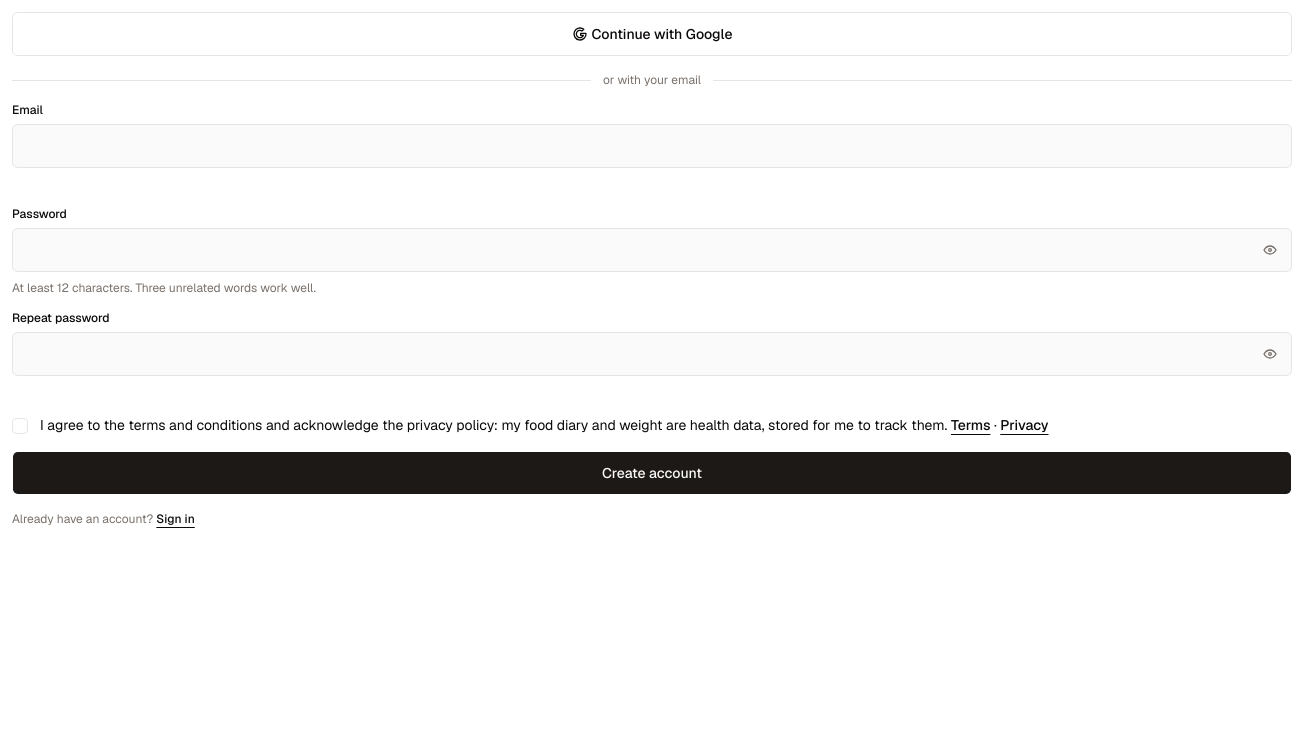
SignUpForm › asks for the agreement before it goes to Google
The width and height of the screenshot is (1304, 732).
Click the button "Continue with Google".
click(652, 34)  # box x1=12 y1=12 x2=1292 y2=56
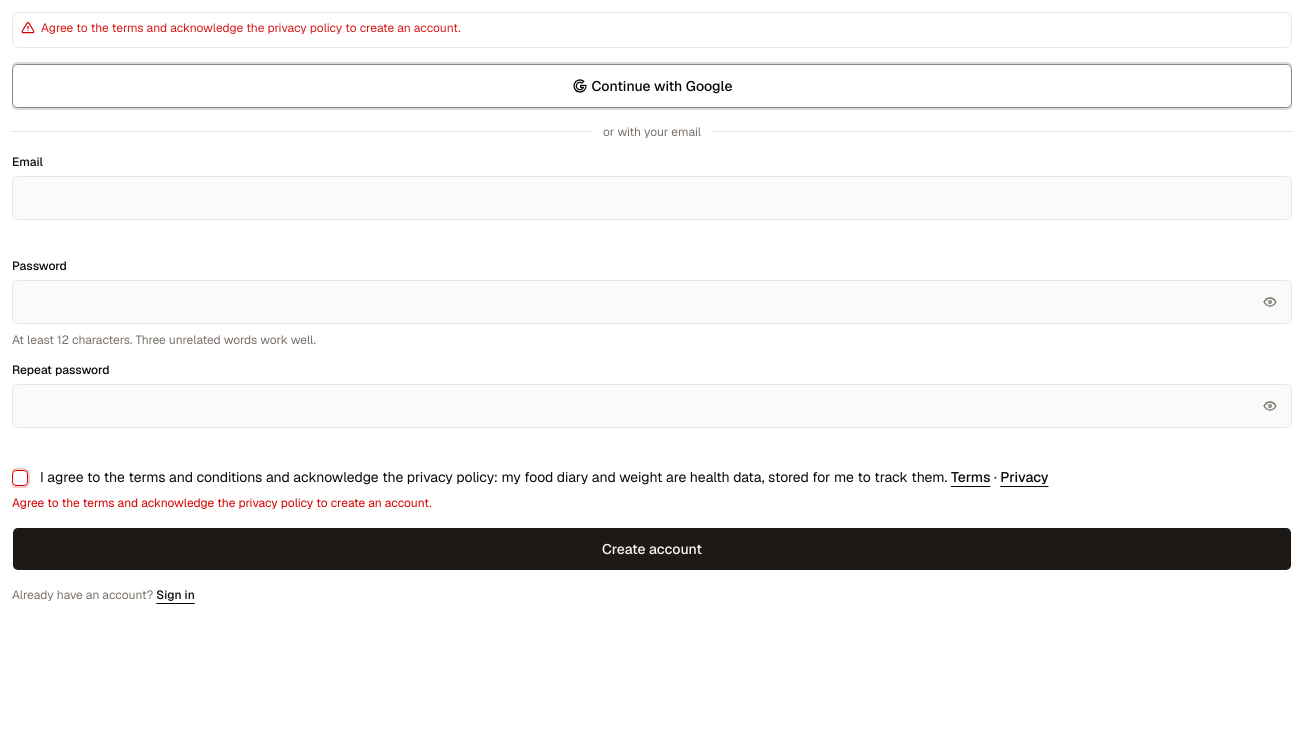
Now the message reads "Agree to the terms and acknowledge the privacy policy to create an account.", box x1=41 y1=20 x2=461 y2=36
